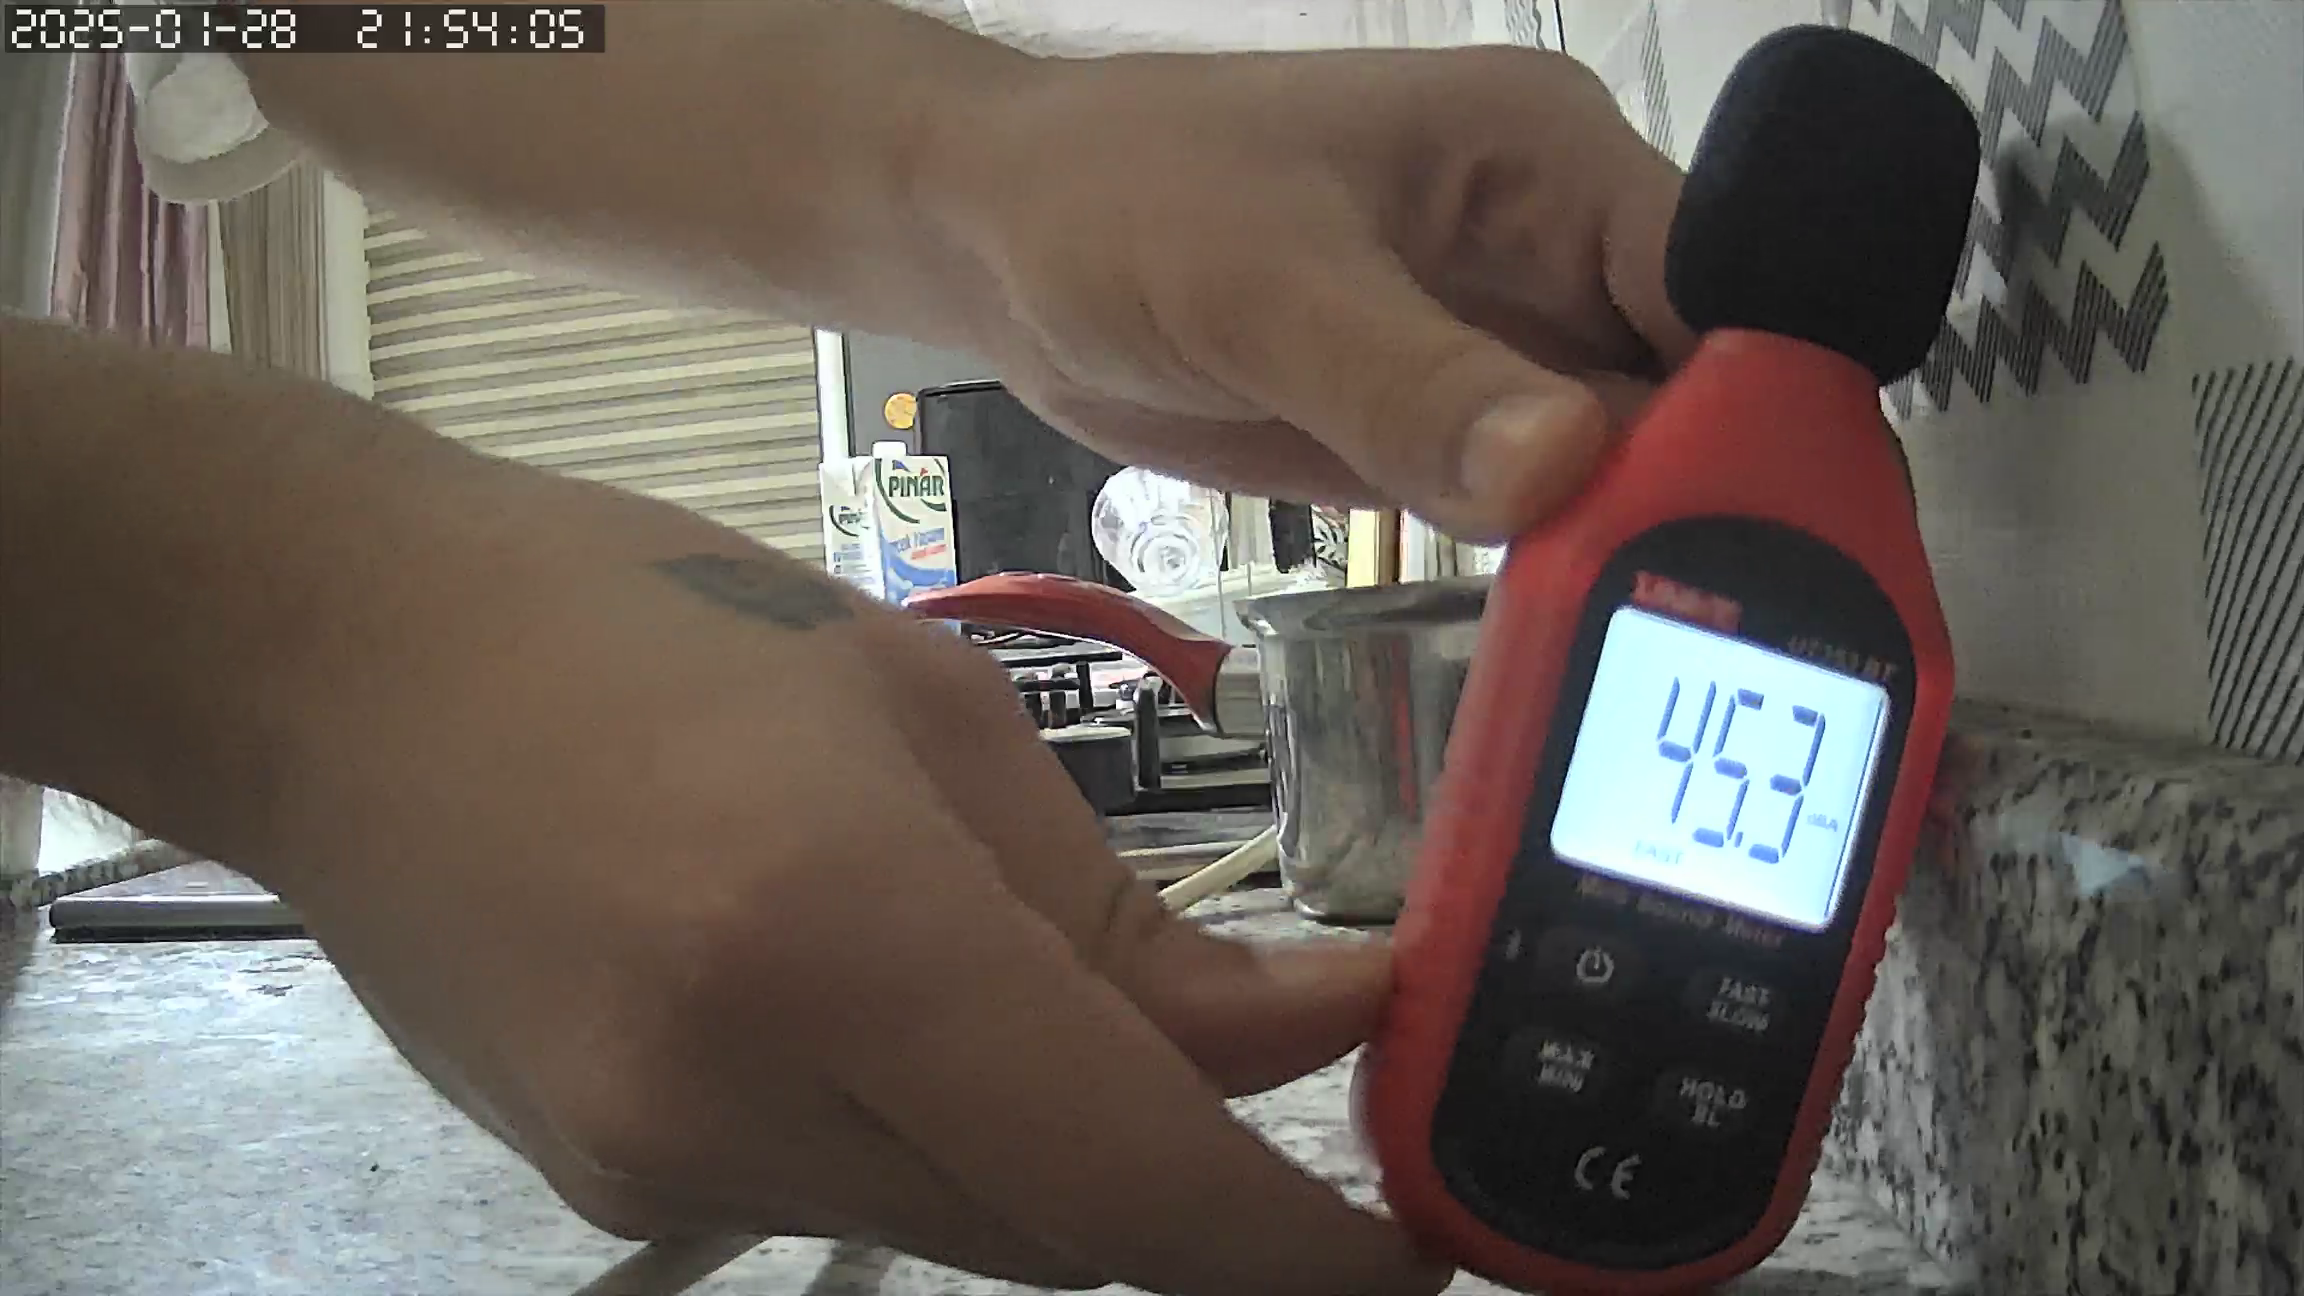screen: (1548, 604, 1886, 934)
